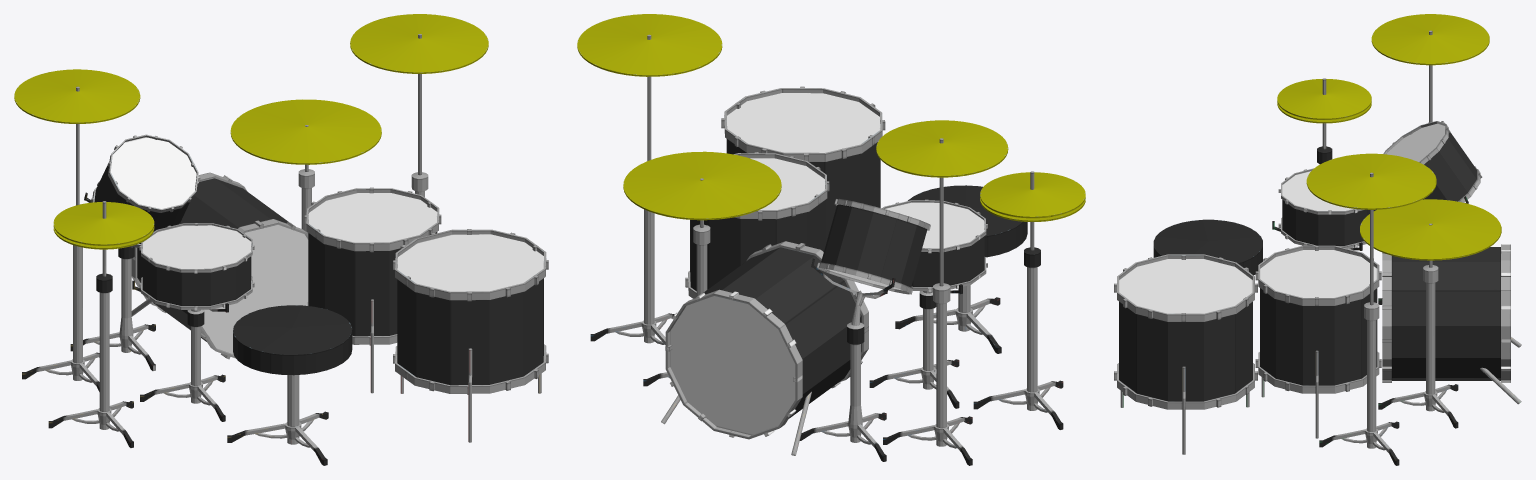
Rendered from davul.glb.
3 views of the same model, side by side, from view 1: azimuth 30°, elevation 25°; view 2: azimuth 150°, elevation 25°; view 3: azimuth 270°, elevation 25° (orthographic). The views are drawn at different scales.
Visible parts, largest first — view 1: BigFL_1, BigFL, BigKick, Sgabello, Bigsnare, Ride, BigTOM, Crash_1, Crash, HHT, rEGGIhh, Asta Crash (+4 smaller); view 2: BigKick, BigFL_1, BigFL, Ride, BigTOM, Crash_1, Crash, Bigsnare, Sgabello, HHT, Asta Crash, rEGGIhh (+4 smaller); view 3: BigFL_1, BigFL, BigKick, Ride, Crash_1, Crash, Bigsnare, BigTOM, Sgabello, HHT, Asta Crash_1, Asta Ride (+1 smaller).
Boxes of the visible parts, x1,y1,x2,y2 form: BigFL_1: (393, 229, 548, 442); BigFL: (304, 187, 441, 393); BigKick: (131, 172, 308, 359); Sgabello: (227, 305, 352, 465); Bigsnare: (139, 223, 254, 310); Ride: (230, 99, 381, 164); BigTOM: (90, 134, 199, 247); Crash_1: (350, 14, 488, 73); Crash: (14, 69, 140, 123); HHT: (53, 202, 154, 245); rEGGIhh: (48, 201, 133, 447); Asta Crash: (22, 86, 99, 391); BigKick: (661, 241, 868, 455); BigFL_1: (721, 86, 885, 245); BigFL: (685, 152, 829, 298); Ride: (623, 151, 781, 220); BigTOM: (816, 198, 930, 294); Crash_1: (577, 14, 722, 76); Crash: (876, 120, 1008, 177); Bigsnare: (882, 199, 987, 292); Sgabello: (895, 185, 1027, 353); HHT: (980, 172, 1085, 218); Asta Crash: (883, 138, 972, 465); rEGGIhh: (973, 171, 1063, 429); BigFL_1: (1114, 254, 1257, 454); BigFL: (1255, 245, 1381, 438); BigKick: (1382, 244, 1521, 404); Ride: (1360, 199, 1501, 260); Crash_1: (1306, 153, 1436, 209); Crash: (1371, 14, 1489, 65); Bigsnare: (1278, 168, 1376, 248); BigTOM: (1383, 121, 1482, 202); Sgabello: (1153, 219, 1262, 275); HHT: (1277, 79, 1371, 119); Asta Crash_1: (1319, 172, 1399, 465); Asta Ride: (1378, 223, 1458, 428).
Bounding box in the file's own units: 5.1 × 3.2 × 4.32.
Materials: 1 (1 with a texture image).
